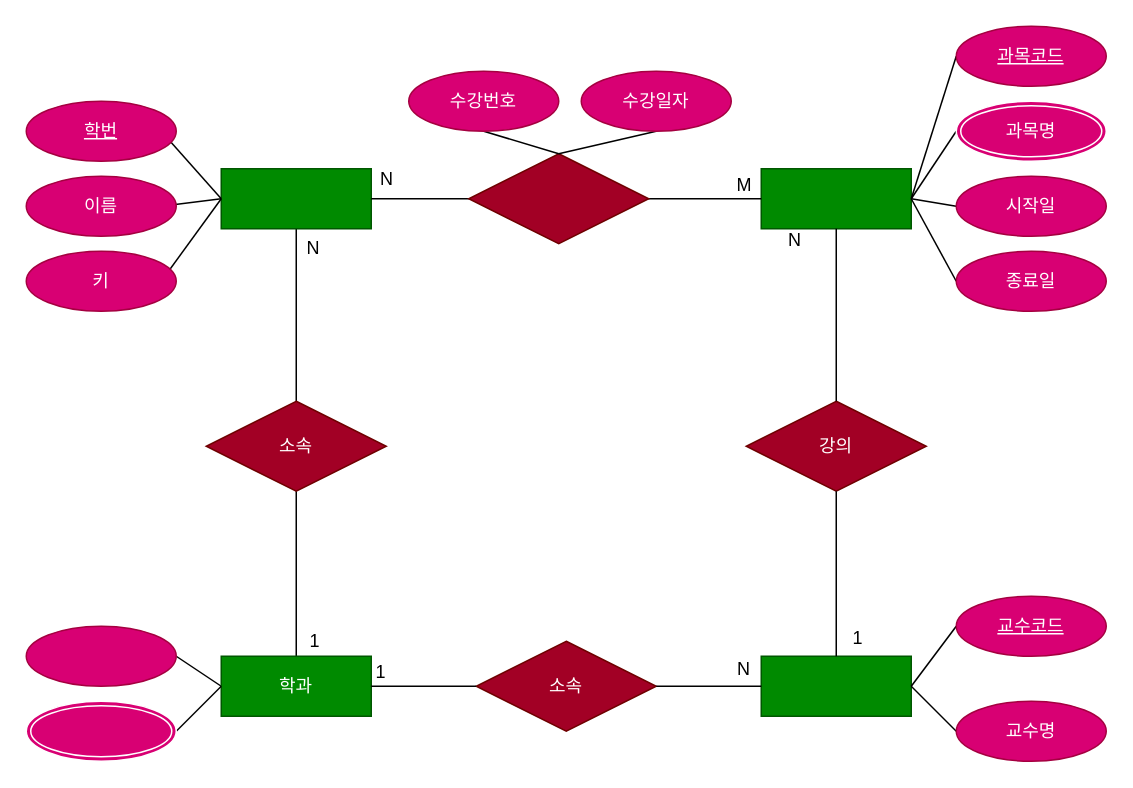
The diagram is 1133 pixels wide and 788 high, and some of its shapes have lost their labels. The centre of each missing label's shape, as x and y in pixels:
과목: the point at 835,198
교수: the point at 835,685
수강: the point at 558,198
학과코드: the point at 100,655
학생: the point at 295,198
확과명: the point at 100,730
